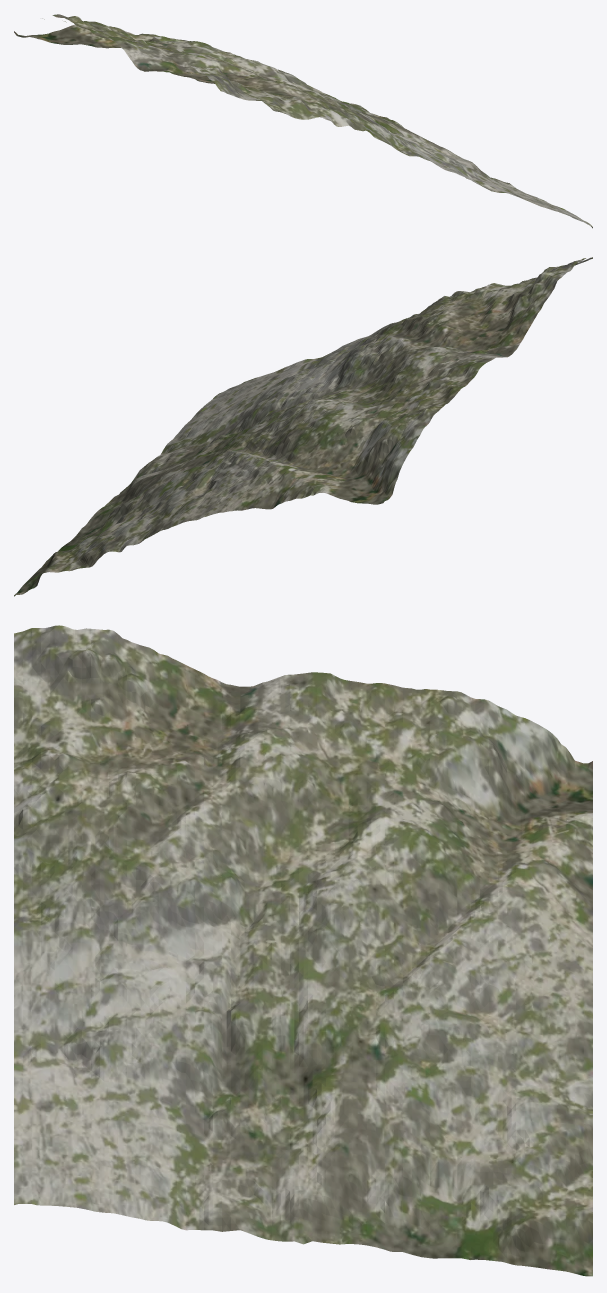
3 views of the same model, one above another, from view 1: azimuth 30°, elevation 25°; view 2: azimuth 150°, elevation 25°; view 3: azimuth 270°, elevation 25° (orthographic). The views are drawn at different scales.
Bounding box in the file's own units: 250 × 183 × 241.
Materials: 1 (1 with a texture image).
